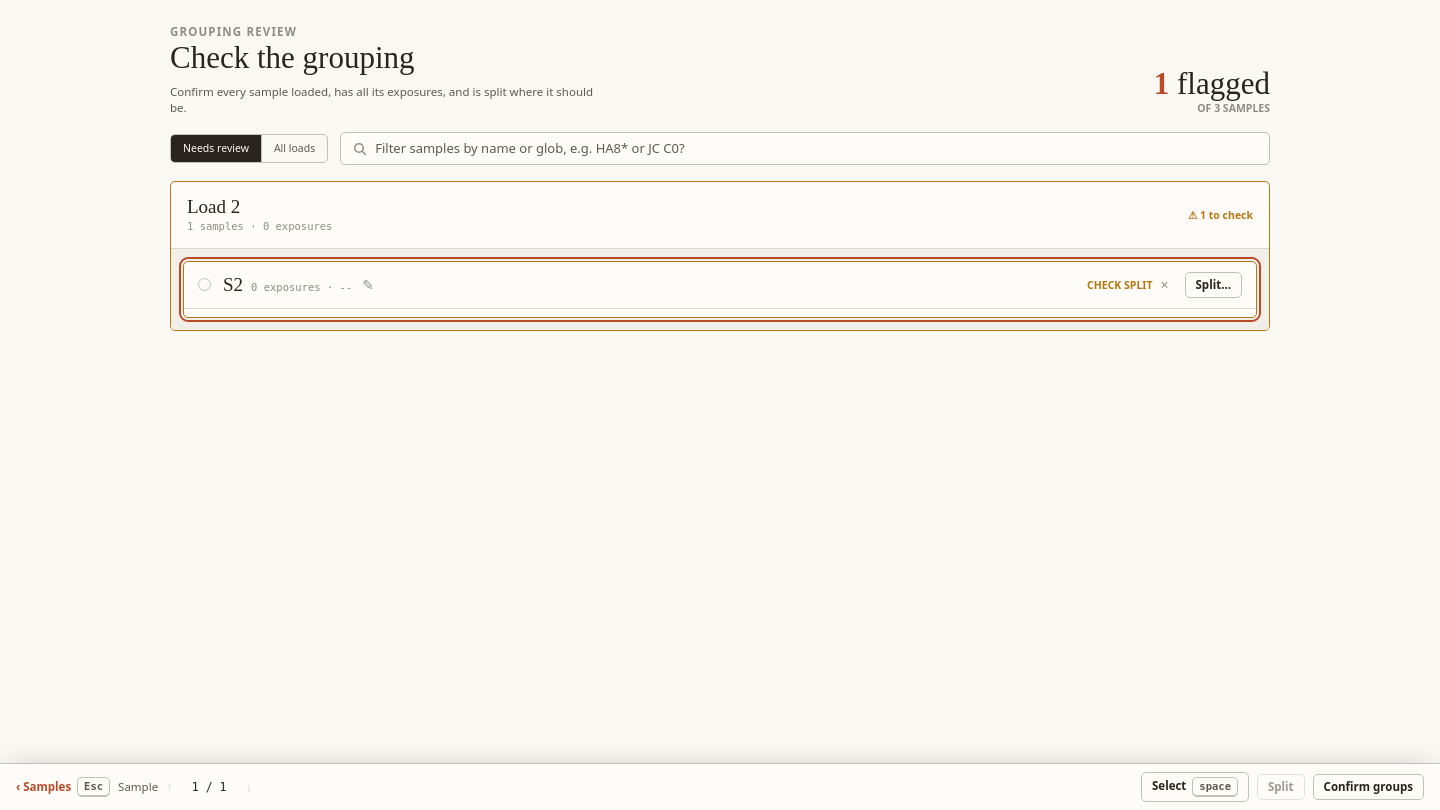
Test case: GroupingReviewPage interaction › merge dock button appears and is enabled at ≥2 selected
The image size is (1440, 810).
Click the button "All loads": point(295, 149) [262,135,327,162]
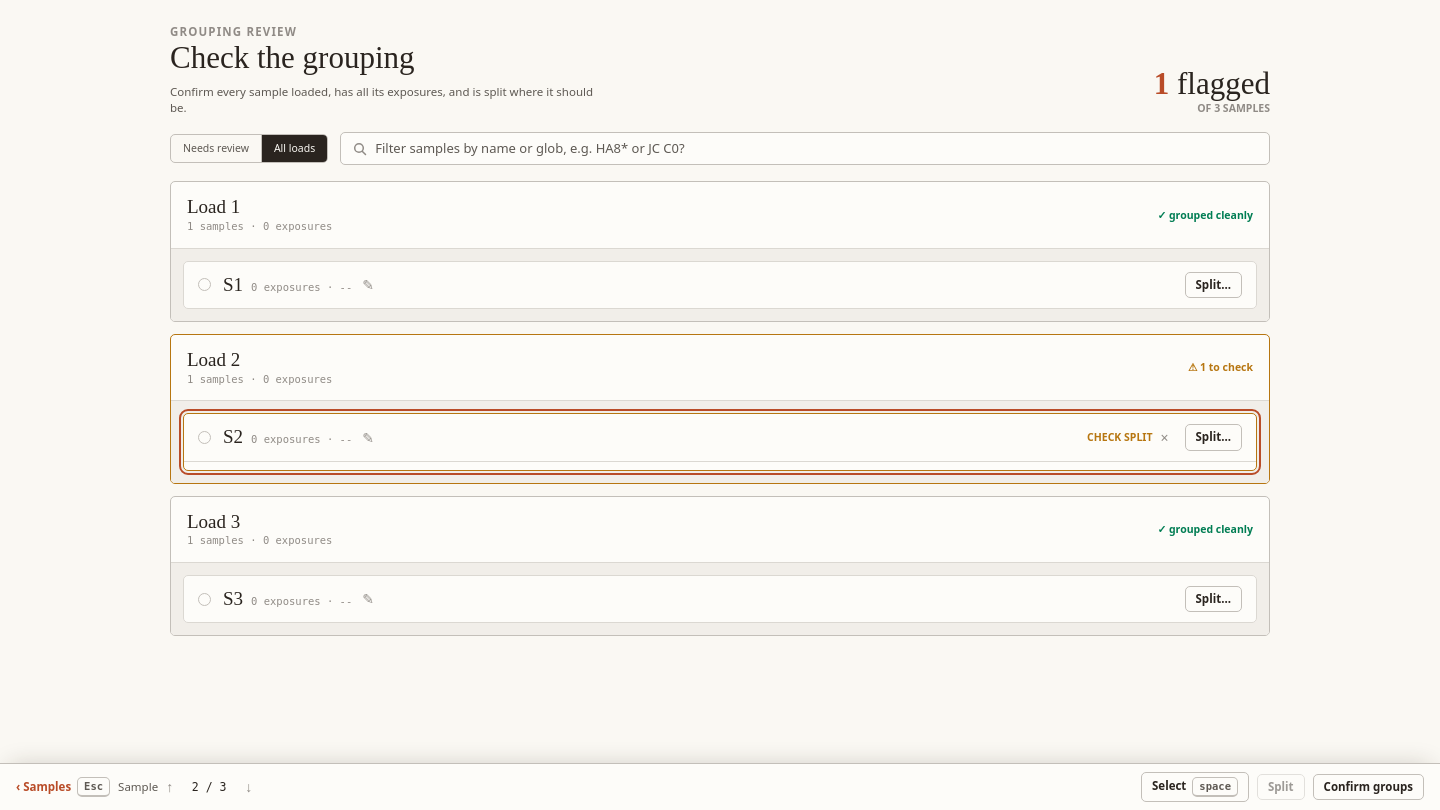
Click the checkbox named "Select S2": point(204, 438) [198,431,211,444]
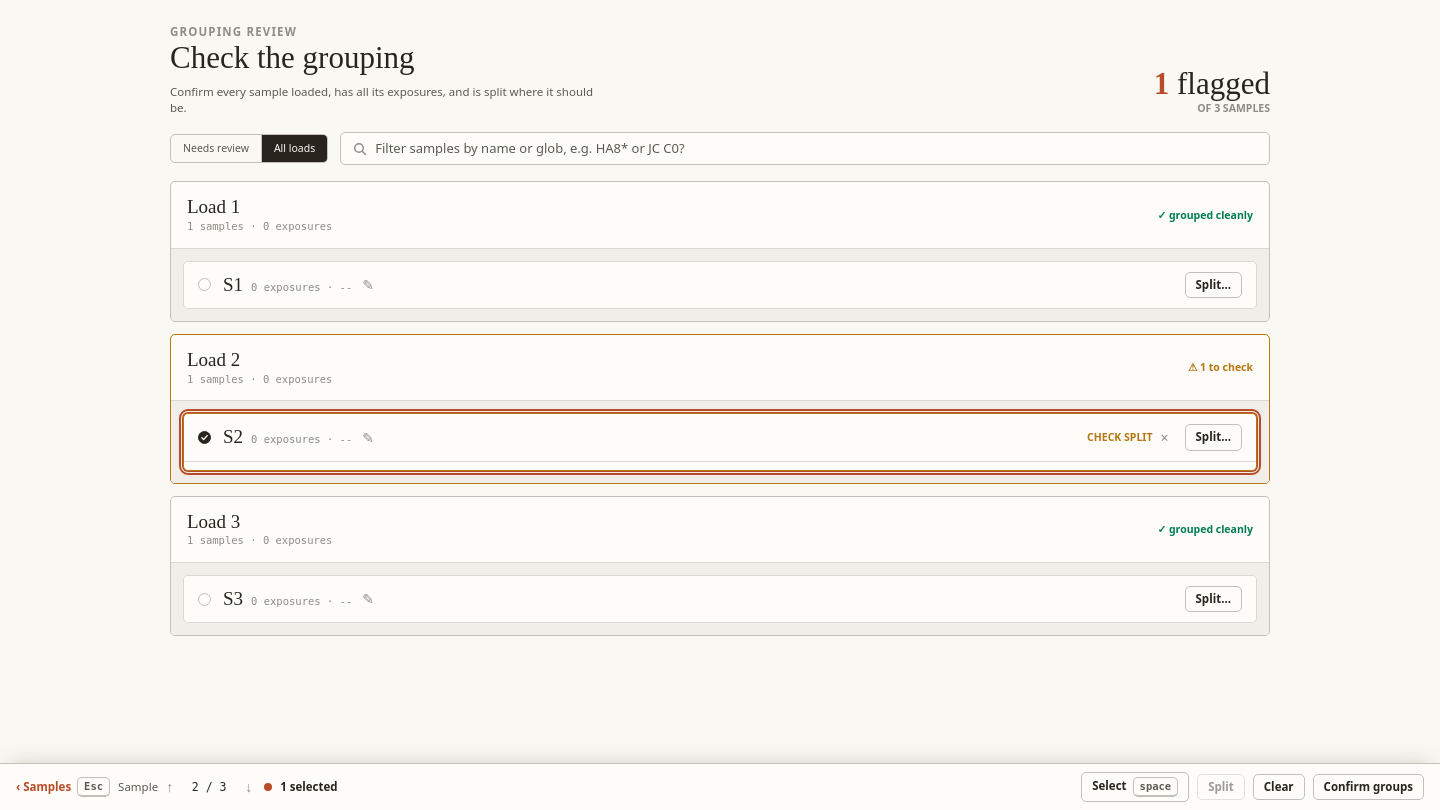
Click the checkbox named "Select S1": point(204, 285) [198,278,211,292]
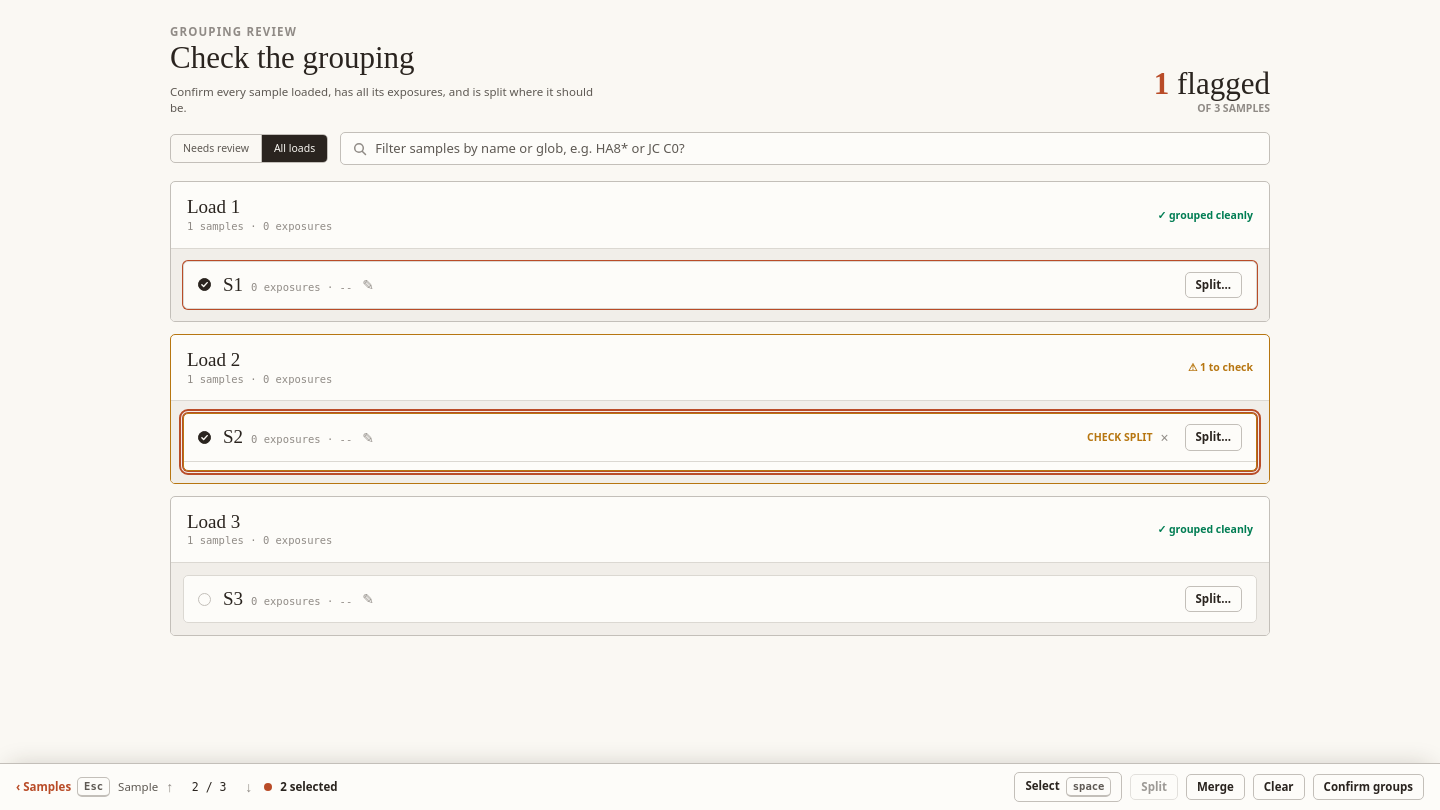
expect the button with test id "dock-action-merge" is enabled: met
Click the button with test id "dock-action-merge": point(1215, 787) [1186,774,1245,800]
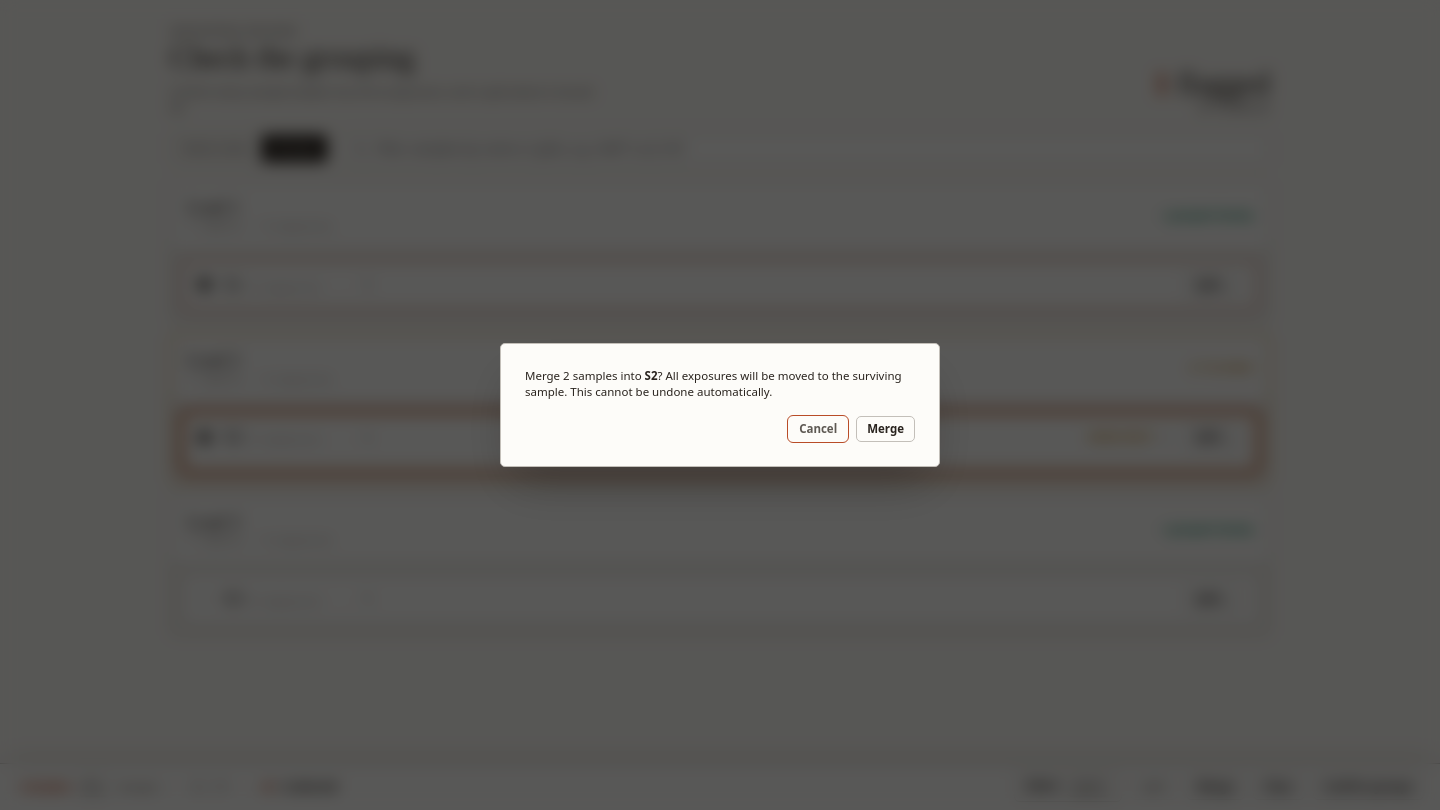
expect the dialog with test id "bulk-merge-confirm" is shown: met, box [500,343,940,467]
